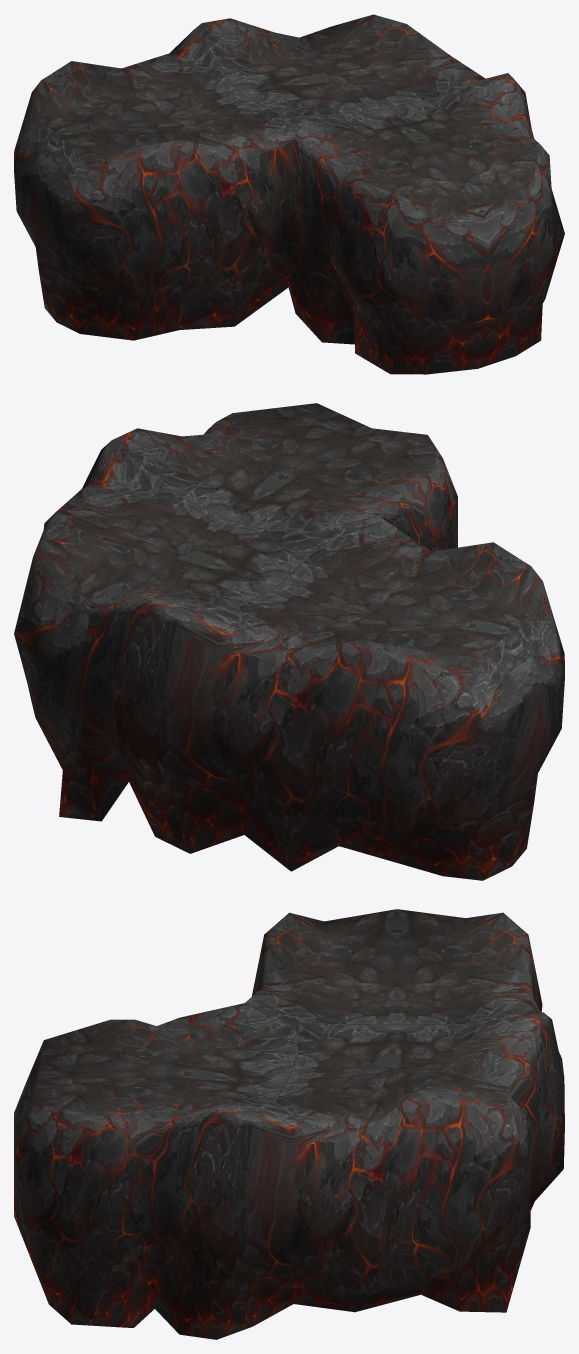
Rendered from 10504_LavaStone09.FBX.
3 renders of one model, top to bottom at view 1: azimuth 30°, elevation 25°; view 2: azimuth 150°, elevation 25°; view 3: azimuth 270°, elevation 25°, orthographic. The views are drawn at different scales.
Parts seen in each view (by area): view 1: Line016; view 2: Line016; view 3: Line016.
Part boxes in pixels (box(x1,y1,x2,y2)): Line016: box(14, 14, 564, 374); Line016: box(14, 403, 564, 880); Line016: box(14, 909, 564, 1339).
Size of the model in its own units: 1358 by 632 by 1304.
